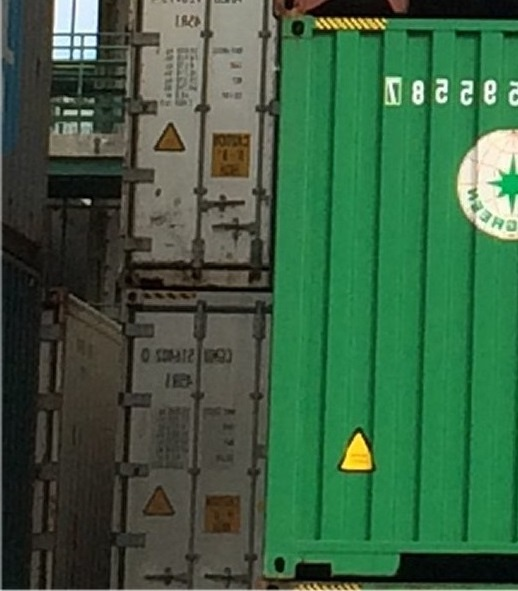container_door: (109, 287, 270, 591), (125, 3, 278, 282)
container_no_door: (265, 17, 516, 579)
